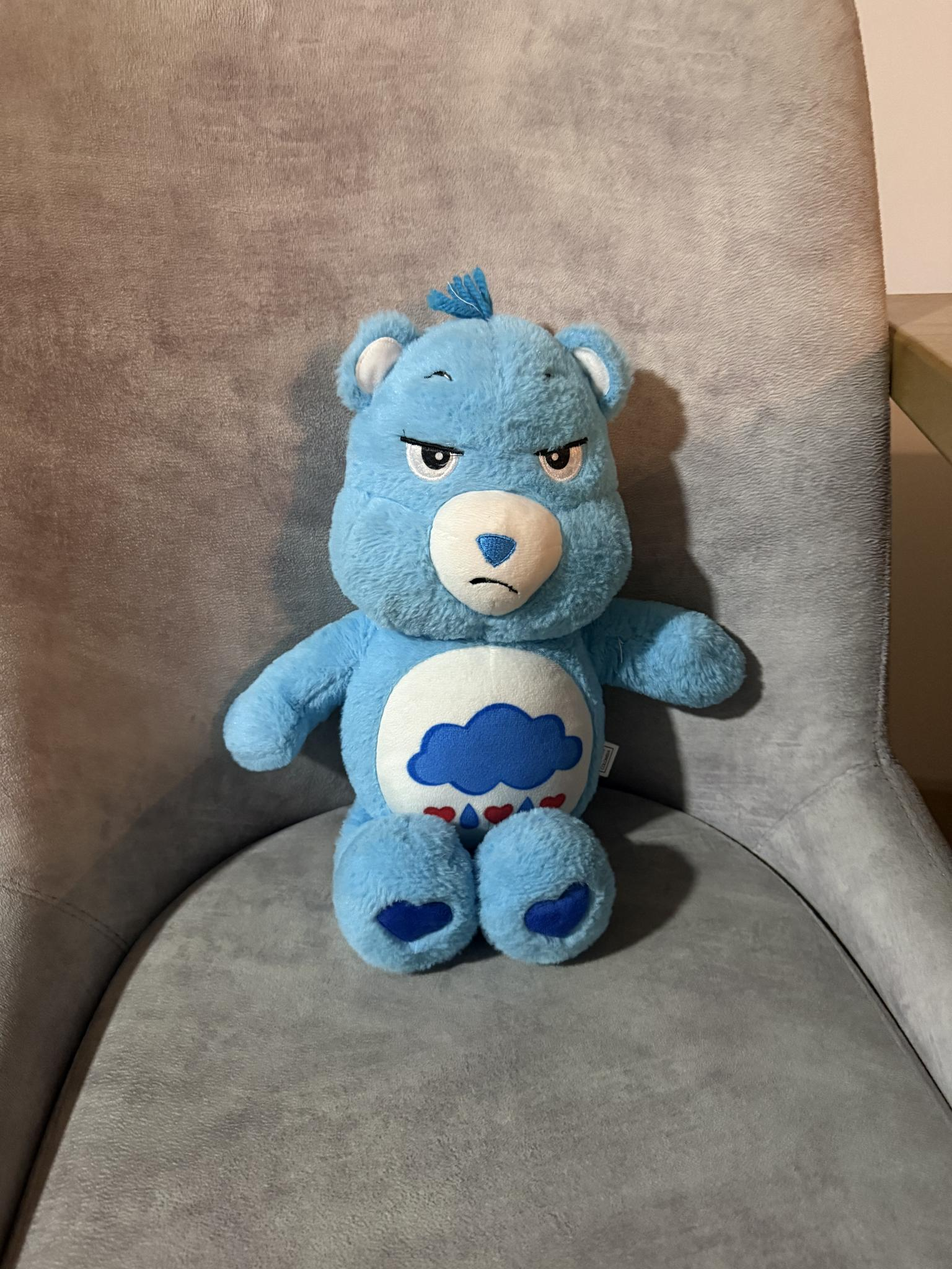peluche_Juan Jose: (218, 278, 760, 964)
